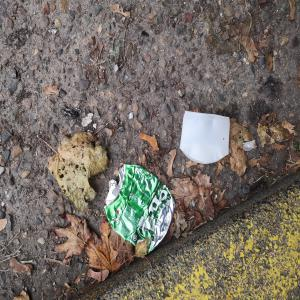Can: (103, 162, 179, 258)
Trash: (179, 110, 233, 167)
